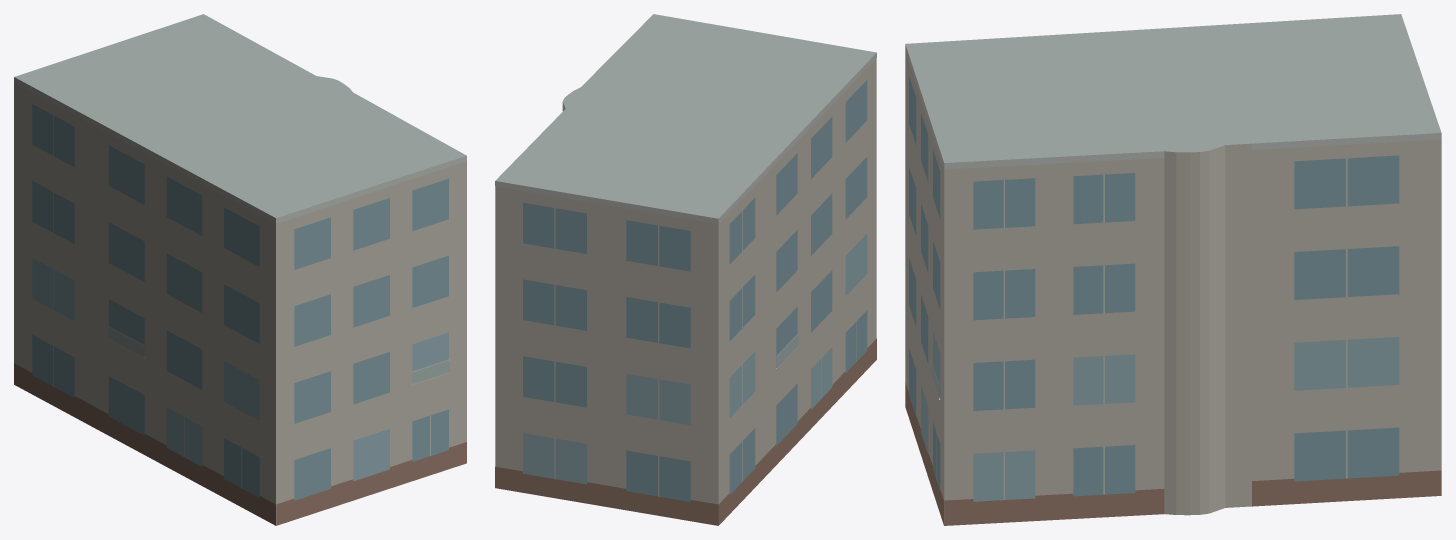
File: survey-upis-32965069.glb
The picture shows the model from 3 angles, left to right: view 1: azimuth 30°, elevation 25°; view 2: azimuth 150°, elevation 25°; view 3: azimuth 270°, elevation 25°; orthographic projection. The views are drawn at different scales.
Visible parts, largest first — view 1: survey-upis-32965069.tmp; view 2: survey-upis-32965069.tmp; view 3: survey-upis-32965069.tmp.
Part boxes in pixels (x1,y1,x2,y2): survey-upis-32965069.tmp: [14, 14, 466, 525]; survey-upis-32965069.tmp: [495, 14, 876, 525]; survey-upis-32965069.tmp: [905, 14, 1441, 525].
Size of the model in its own units: 12.03 by 13.65 by 18.29.
